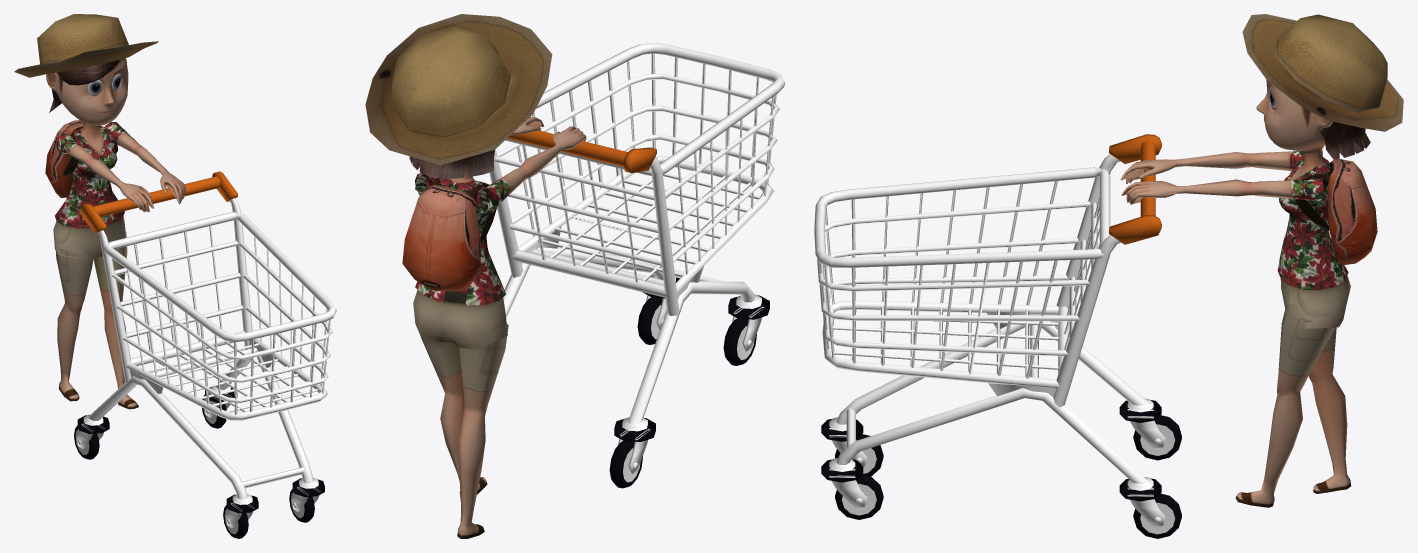
The model's file is carrito.obj.
3 views of the same model, side by side, from view 1: azimuth 30°, elevation 25°; view 2: azimuth 150°, elevation 25°; view 3: azimuth 270°, elevation 25° (orthographic). The views are drawn at different scales.
Visible parts, largest first — view 1: carrito1:brIzq3; view 2: carrito1:brIzq3; view 3: carrito1:brIzq3.
Part boxes in pixels (x1=…): carrito1:brIzq3: x1=14, y1=14, x2=336, y2=538; carrito1:brIzq3: x1=365, y1=14, x2=785, y2=538; carrito1:brIzq3: x1=814, y1=14, x2=1403, y2=538.
Size of the model in its own units: 1.83 by 4.24 by 4.74.
4 materials, 4 textured.
